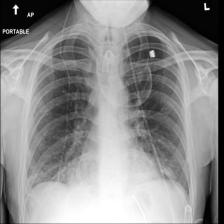normal: (17, 26, 196, 222)
